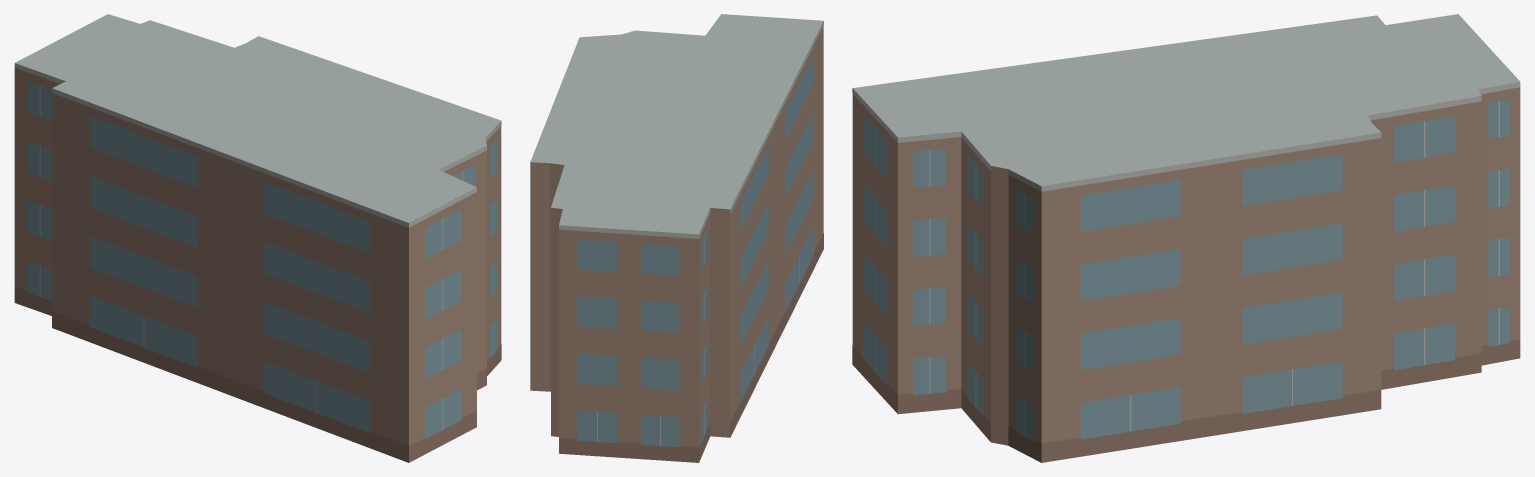
File: survey-upis-32630790.glb
3 views of the same model, side by side, from view 1: azimuth 30°, elevation 25°; view 2: azimuth 150°, elevation 25°; view 3: azimuth 270°, elevation 25° (orthographic). The views are drawn at different scales.
Visible parts, largest first — view 1: survey-upis-32630790.tmp; view 2: survey-upis-32630790.tmp; view 3: survey-upis-32630790.tmp.
Part boxes in pixels (x1,y1,x2,y2): survey-upis-32630790.tmp: (14,14,501,462); survey-upis-32630790.tmp: (530,14,823,462); survey-upis-32630790.tmp: (852,14,1520,462).
Bounding box in the file's own units: 16.57 × 12.4 × 27.14.
